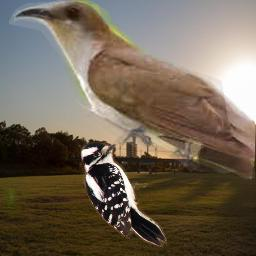Cuckoo: (9, 0, 255, 181)
Woodpecker: (80, 142, 167, 249)
